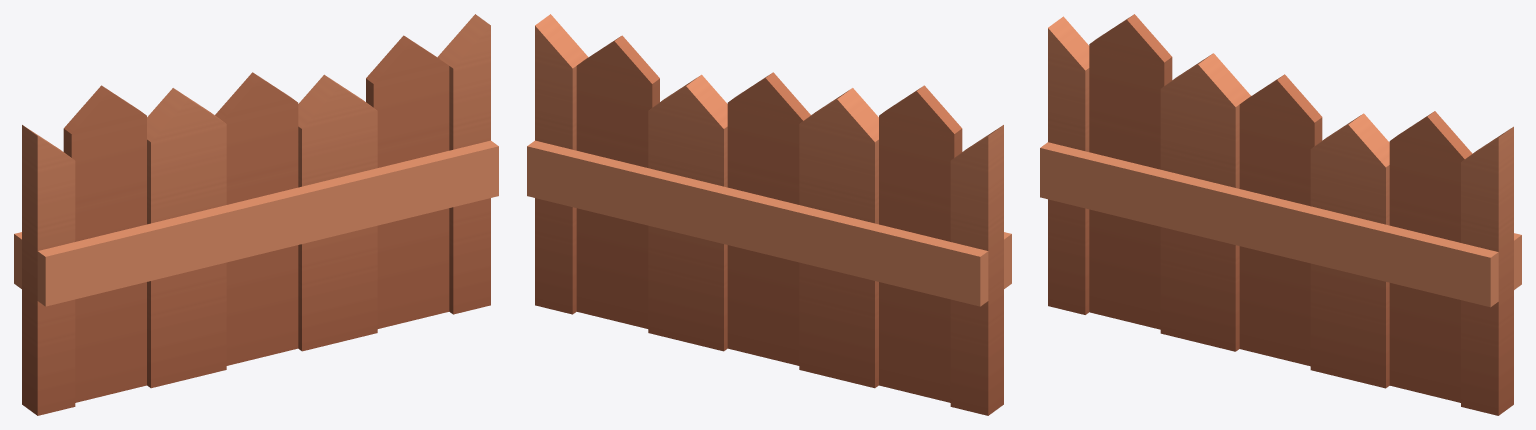
The model's file is fence.glb.
The picture shows the model from 3 angles, left to right: view 1: azimuth 30°, elevation 25°; view 2: azimuth 150°, elevation 25°; view 3: azimuth 330°, elevation 25°; orthographic projection.
Parts seen in each view (by area): view 1: Asset3DLoader.sceneRoot; view 2: Asset3DLoader.sceneRoot; view 3: Asset3DLoader.sceneRoot.
Boxes of the visible parts, <box> form: Asset3DLoader.sceneRoot: <box>14,14,498,415</box>; Asset3DLoader.sceneRoot: <box>527,14,1011,415</box>; Asset3DLoader.sceneRoot: <box>1040,14,1521,415</box>.
Size of the model in its own units: 1 by 0.64 by 0.12.
1 material, 1 textured.
